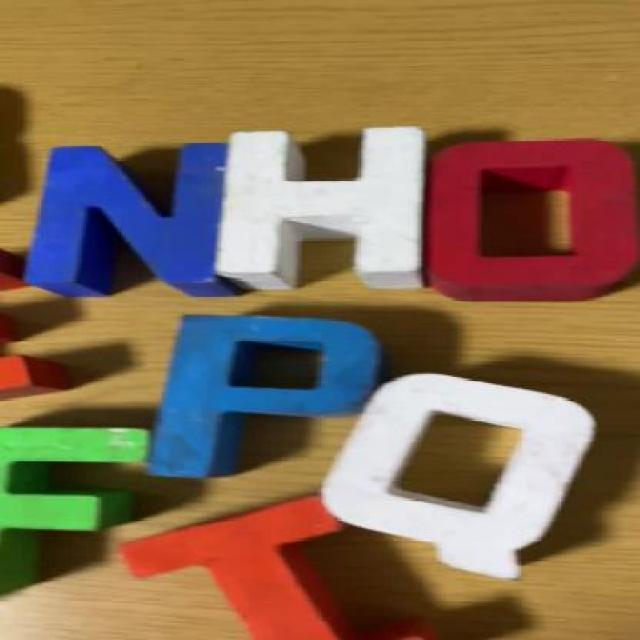F: (0, 399, 149, 593)
H: (218, 119, 430, 299)
N: (24, 132, 236, 299)
O: (418, 137, 625, 309)
P: (140, 312, 406, 494)
Q: (332, 376, 611, 584)
